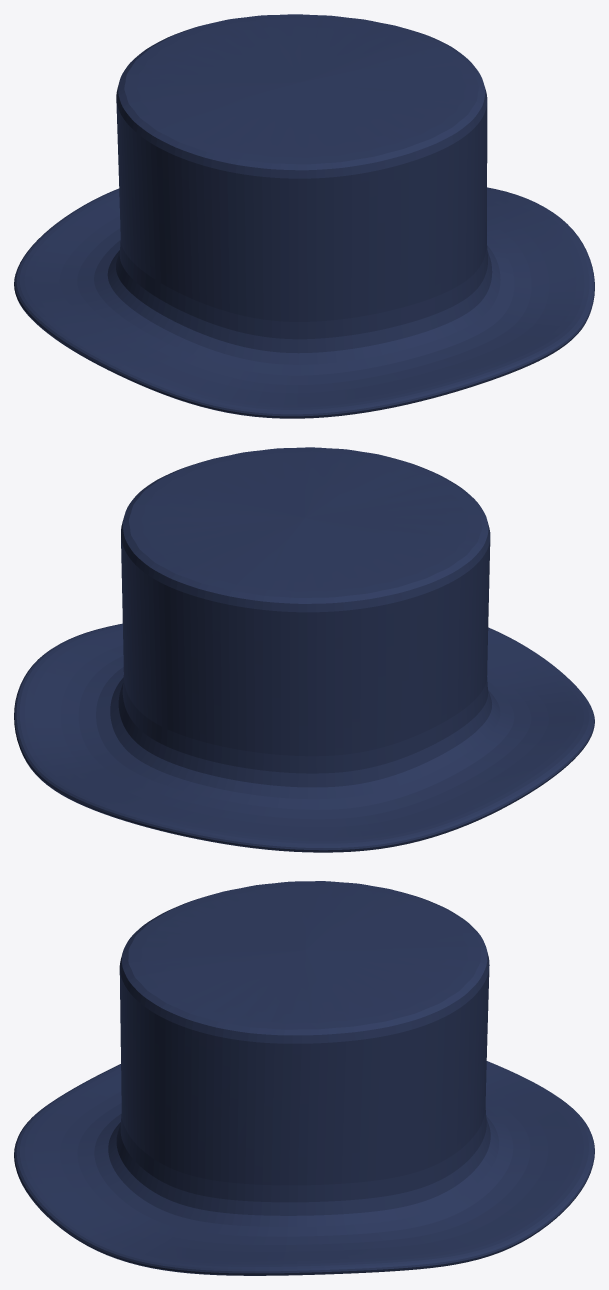
Rendered from Token4_New.fbx.
3 renders of one model, top to bottom at view 1: azimuth 30°, elevation 25°; view 2: azimuth 150°, elevation 25°; view 3: azimuth 270°, elevation 25°, orthographic.
Parts seen in each view (by area): view 1: top head.001; view 2: top head.001; view 3: top head.001.
Boxes of the visible parts, bbox=[...] form: top head.001: bbox=[14, 14, 594, 418]; top head.001: bbox=[14, 447, 594, 852]; top head.001: bbox=[14, 881, 594, 1275].
Bounding box in the file's own units: 3.76 × 3.77 × 1.55.
